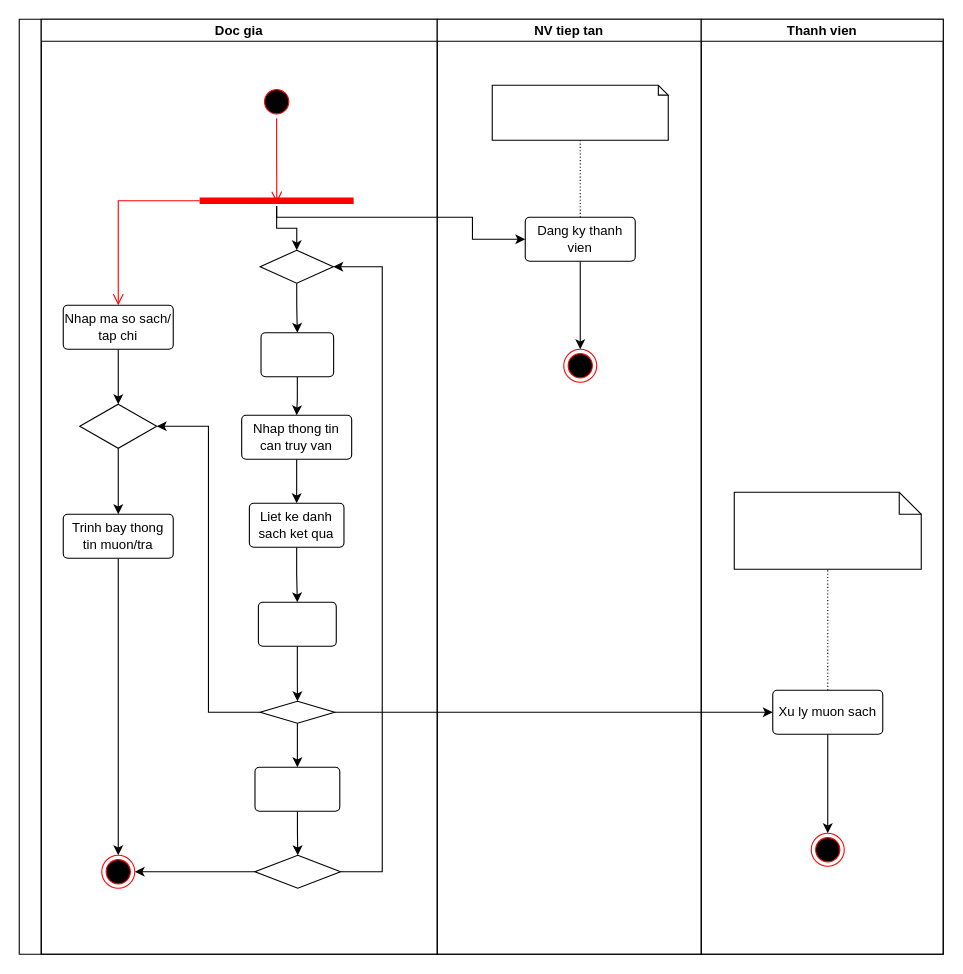
Image size: 963x974. Some labels were removed from this diagram. The centre of each missing label's shape, as x and y in pixels:
Chon 1 thanh phan: pixel 296 623
Chon loai tim kiem: pixel 297 354
Trinh bay thong tin sach: pixel 297 788
Xem them chi tiet trong AD cua "NV tiep tan": pixel 579 112
Xem thong tin chi tiet trong AD cua "Thanh vien": pixel 827 530
